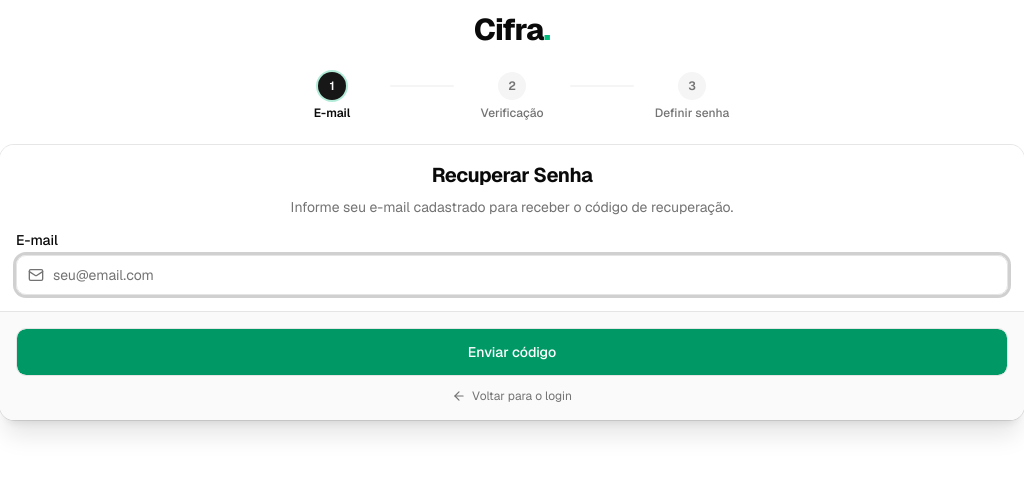
RecoveryWizard Component - Testes de Integração do Fluxo de Recuperação › deve avançar para o Passo 2 ao enviar o código de recuperação com sucesso
The image size is (1024, 496).
Type "recuperar@cifra.app" into the field labelled "E-mail". click: (512, 275)
box: [16,255,1008,295]
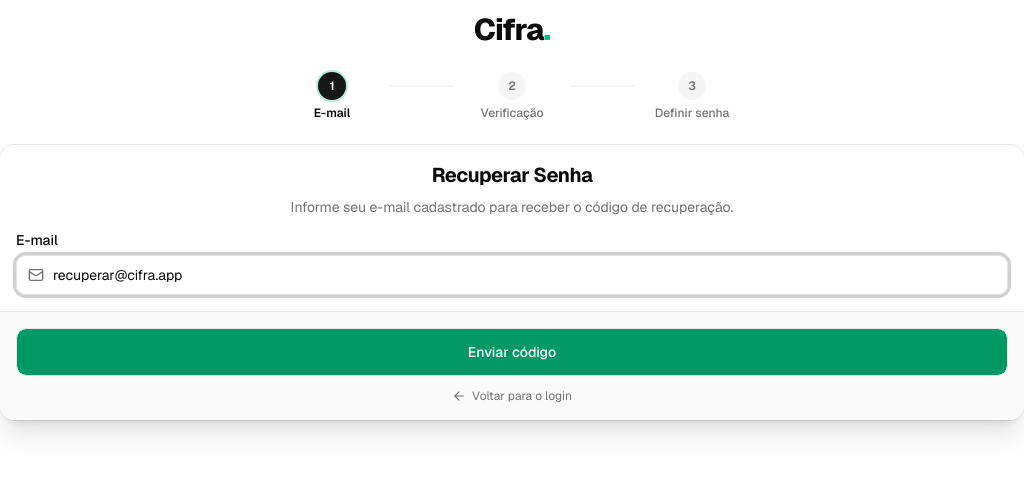
Click the button "Enviar código". click: click(512, 352)
box: [16,328,1008,376]
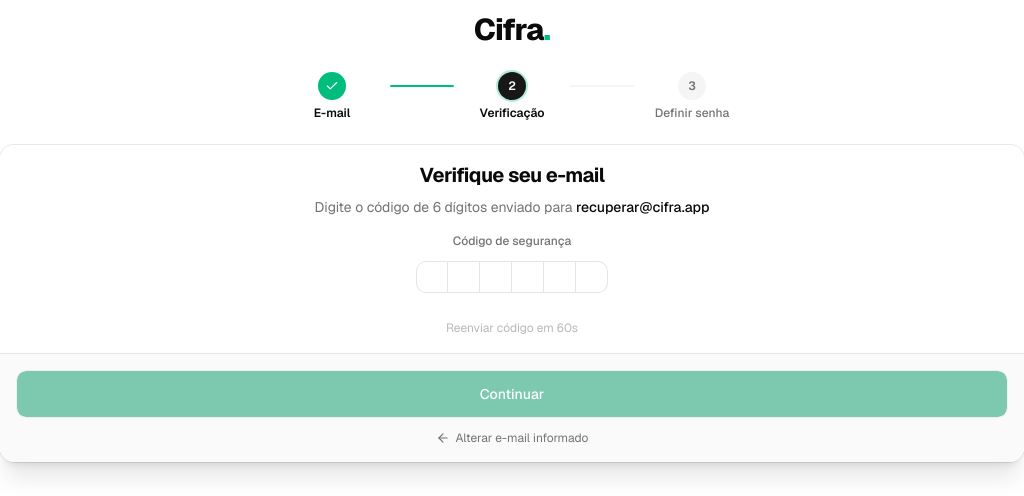
Expected: the text "Verifique seu e-mail" is shown, [420,162,604,188]
Expected: the text "recuperar@cifra.app" is shown, [576,198,710,216]
